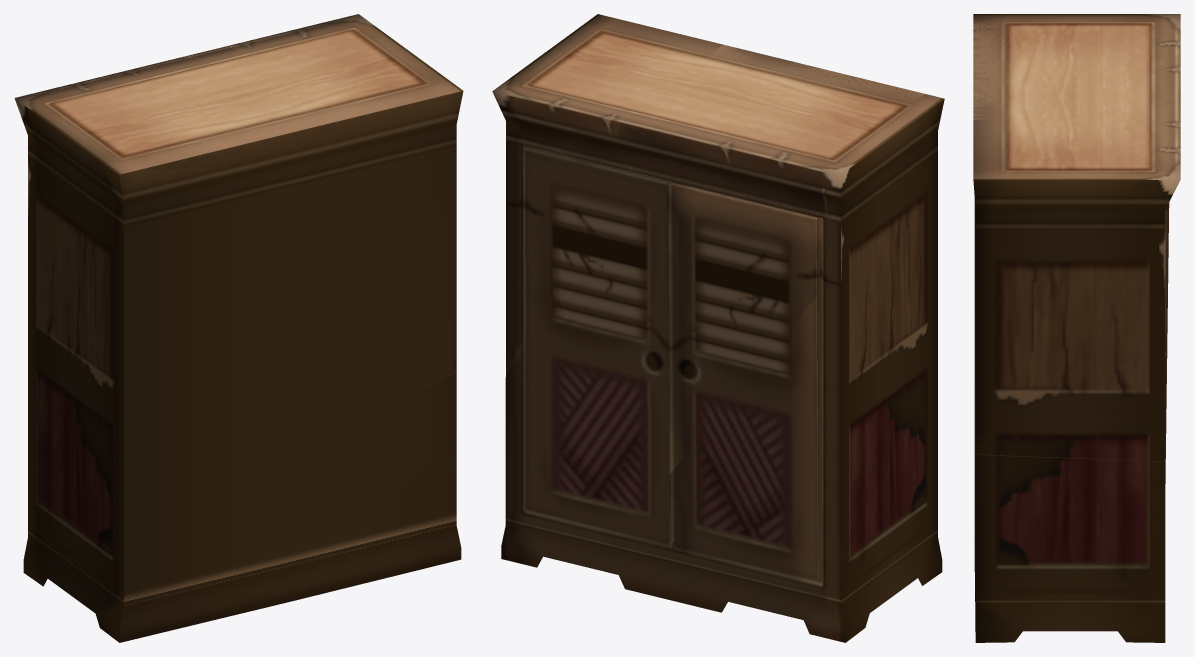
The model's file is a_SWGcase03b01.glb.
The picture shows the model from 3 angles, left to right: view 1: azimuth 30°, elevation 25°; view 2: azimuth 150°, elevation 25°; view 3: azimuth 270°, elevation 25°; orthographic projection. The views are drawn at different scales.
Parts seen in each view (by area): view 1: a_SWGcase03b01; view 2: a_SWGcase03b01; view 3: a_SWGcase03b01.
Part boxes in pixels (x1,y1,x2,y2): a_SWGcase03b01: [14, 14, 463, 642]; a_SWGcase03b01: [492, 14, 944, 642]; a_SWGcase03b01: [973, 14, 1180, 642].
Size of the model in its own units: 2.07 by 2.7 by 1.09.
Materials: 2 (2 with a texture image).
